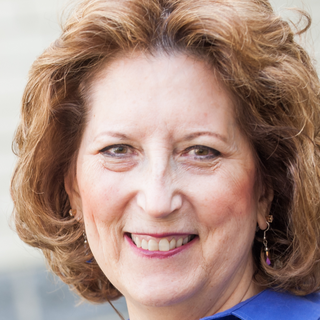eye: (172, 142, 228, 165), (93, 140, 142, 162)
